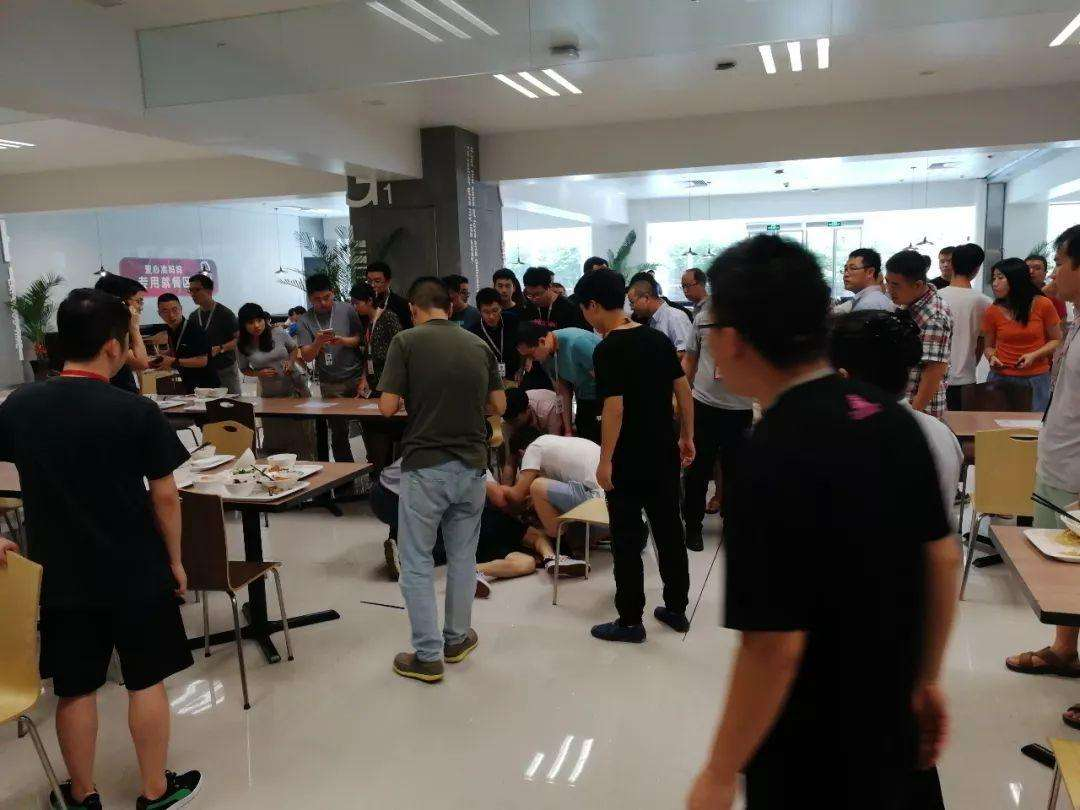10+: (3, 199, 1080, 803)
down: (361, 442, 573, 605)
